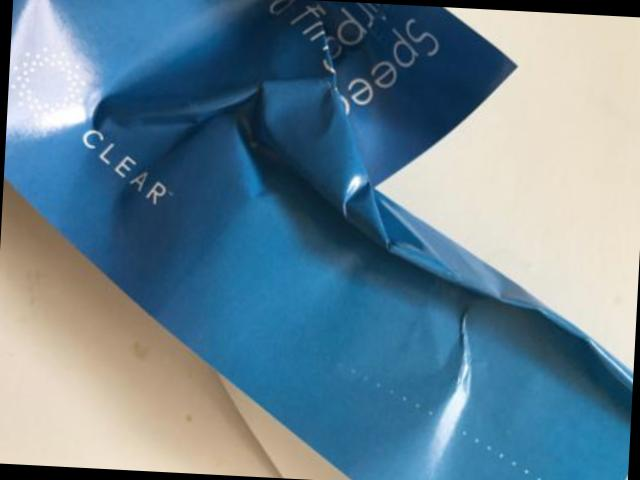cardboard paper: (3, 0, 633, 480)
